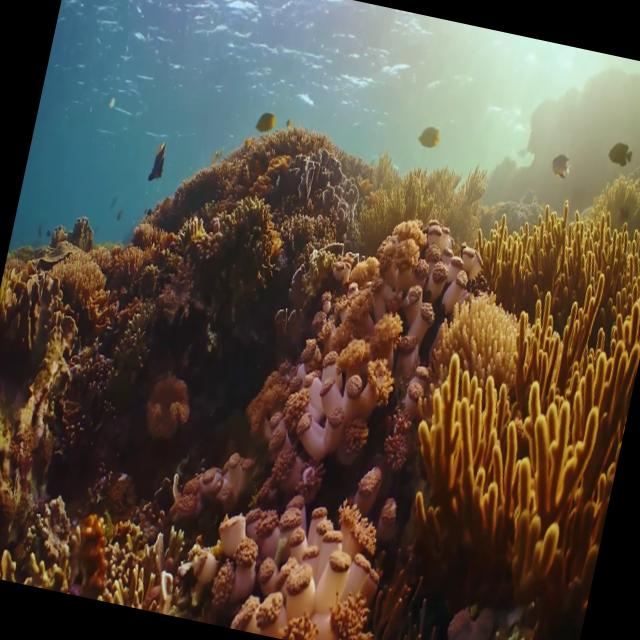fish: (137, 122, 178, 200), (536, 137, 576, 198), (409, 110, 455, 163), (597, 125, 640, 180), (246, 102, 278, 140)
